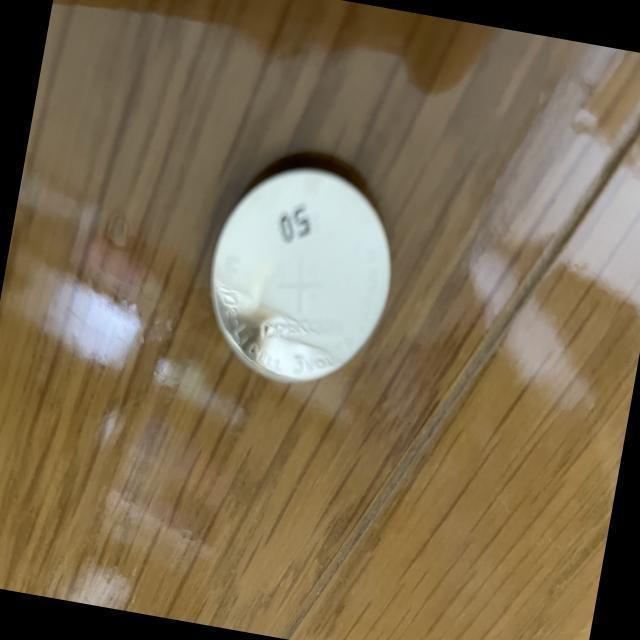COIN: (190, 146, 410, 396)
